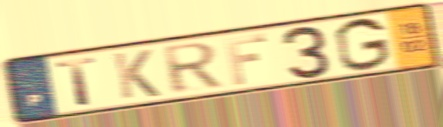3: (279, 23, 331, 81)
F: (222, 32, 269, 87)
G: (332, 16, 393, 74)
K: (110, 48, 163, 101)
R: (160, 40, 225, 96)
T: (54, 55, 101, 108)
